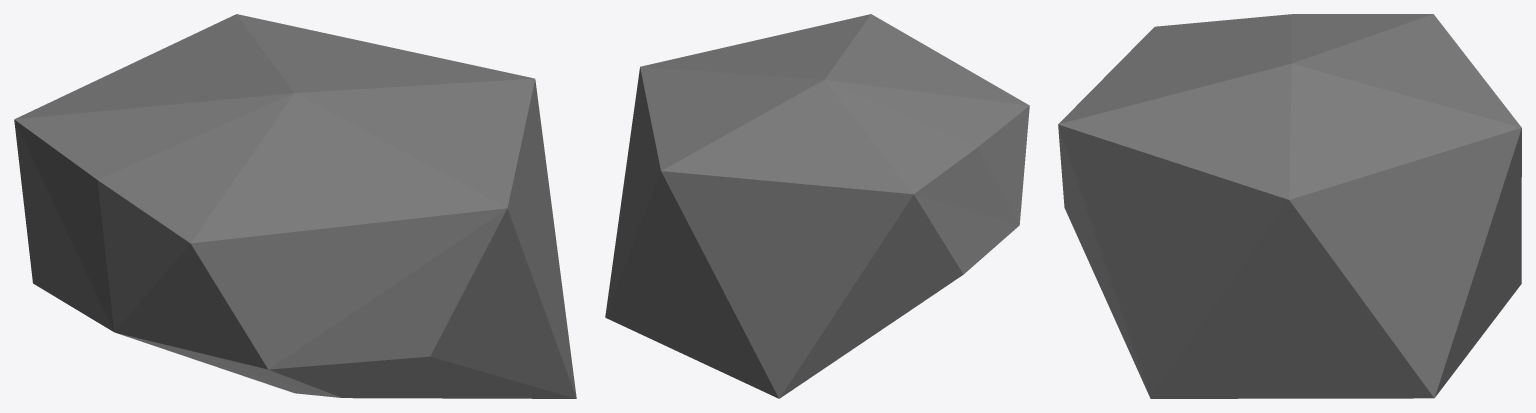
The model's file is SmallRock.obj.
3 views of the same model, side by side, from view 1: azimuth 30°, elevation 25°; view 2: azimuth 150°, elevation 25°; view 3: azimuth 270°, elevation 25° (orthographic). The views are drawn at different scales.
Visible parts, largest first — view 1: Rock1_Icosphere.000; view 2: Rock1_Icosphere.000; view 3: Rock1_Icosphere.000.
Part boxes in pixels (bbox=[...]): Rock1_Icosphere.000: bbox=[14, 14, 576, 398]; Rock1_Icosphere.000: bbox=[605, 14, 1029, 398]; Rock1_Icosphere.000: bbox=[1058, 14, 1521, 398].
Size of the model in its own units: 3.03 by 1.89 by 3.09.
